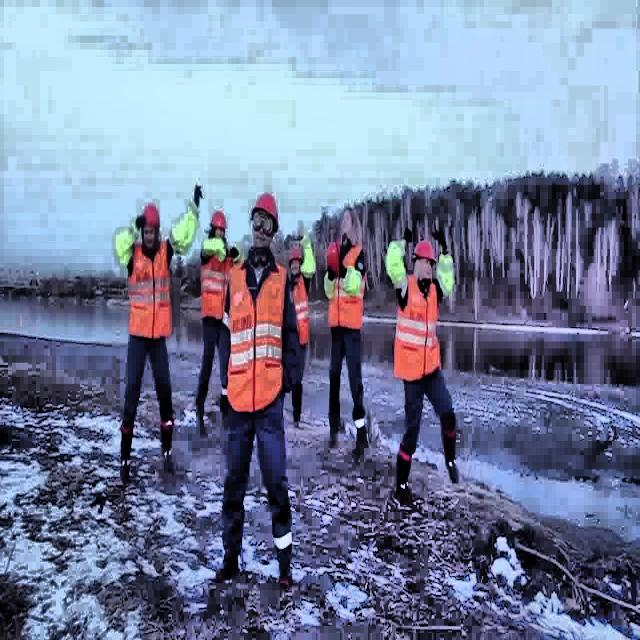safety_helmet: (250, 189, 280, 233), (137, 202, 163, 228), (326, 243, 344, 276), (413, 242, 435, 263), (210, 210, 228, 233), (289, 247, 303, 267)
safety_jacket: (229, 257, 285, 417), (394, 278, 442, 380), (128, 242, 174, 337), (330, 245, 364, 327), (202, 249, 225, 316), (170, 206, 198, 256), (384, 237, 410, 289), (291, 280, 306, 348), (111, 225, 137, 259), (301, 232, 317, 280), (200, 230, 226, 256), (435, 253, 452, 290), (343, 261, 363, 289), (324, 270, 334, 300)
